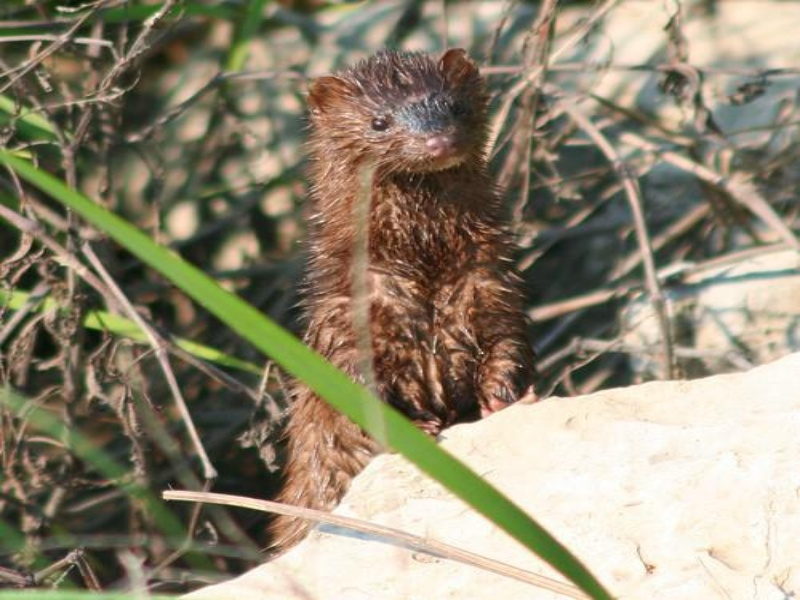minkish: (271, 42, 535, 555)
